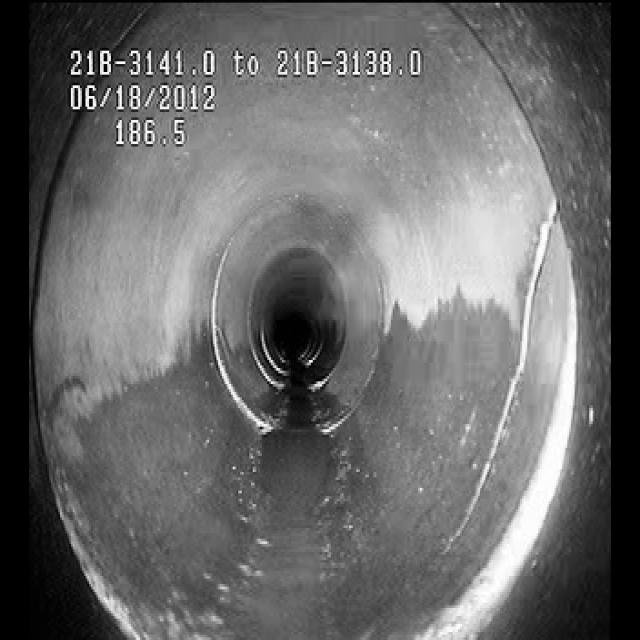Crack: (466, 179, 560, 515)
